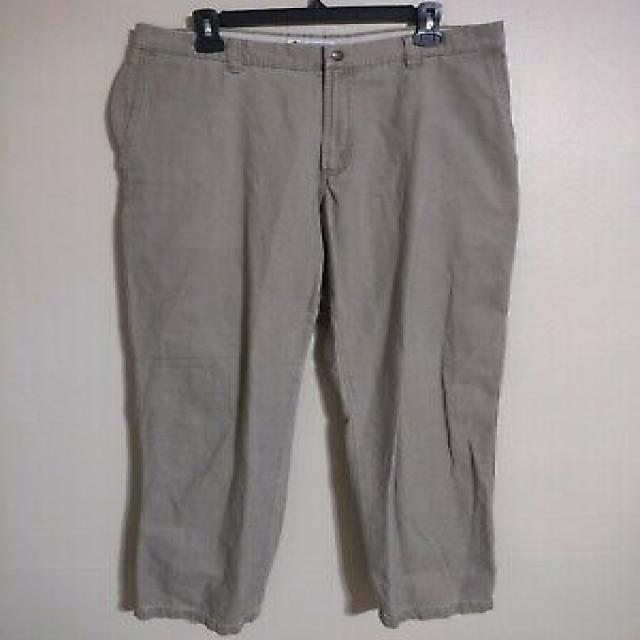long-pants: (110, 18, 516, 632)
